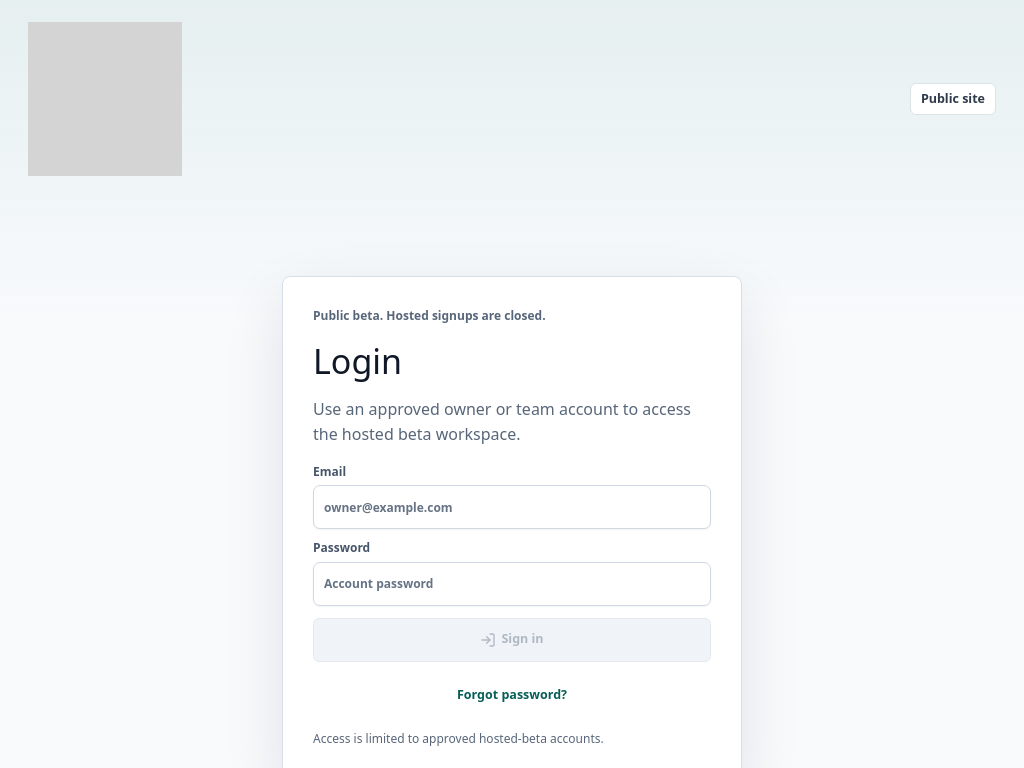
login stores session metadata without persisting bearer tokens and logout clears it
In the field labelled "Email": (512,507) [313,485,711,529], type "reader@example.com"
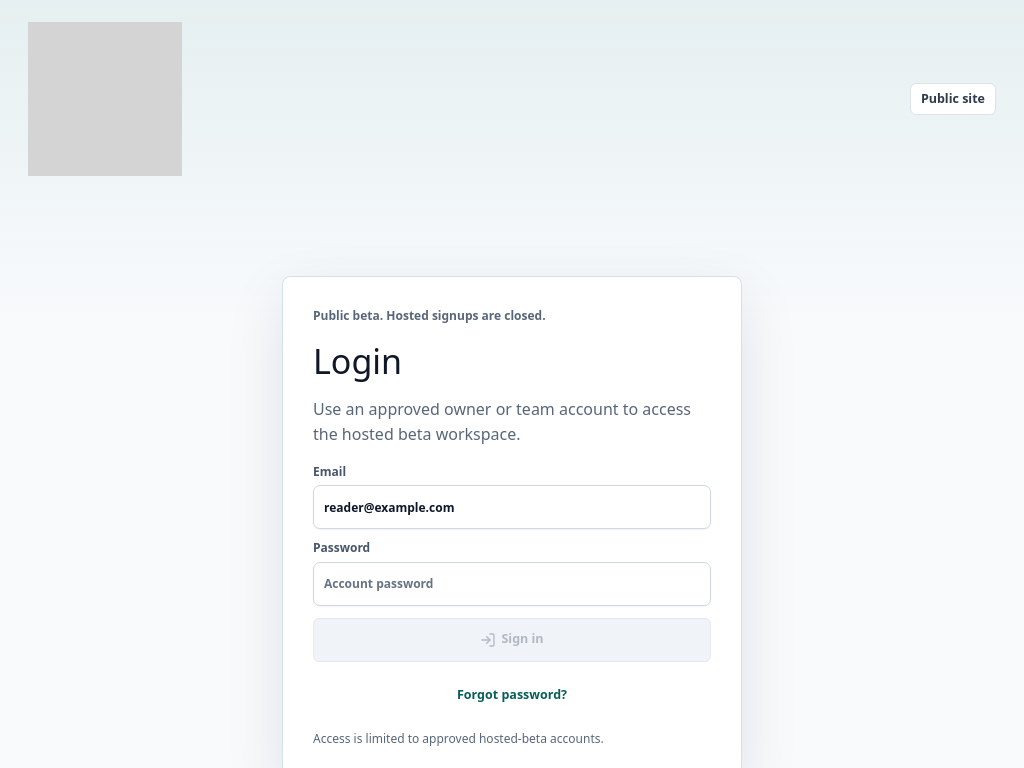
In the password field labelled "Password": (512,584) [313,562,711,606], type "correct horse battery staple"
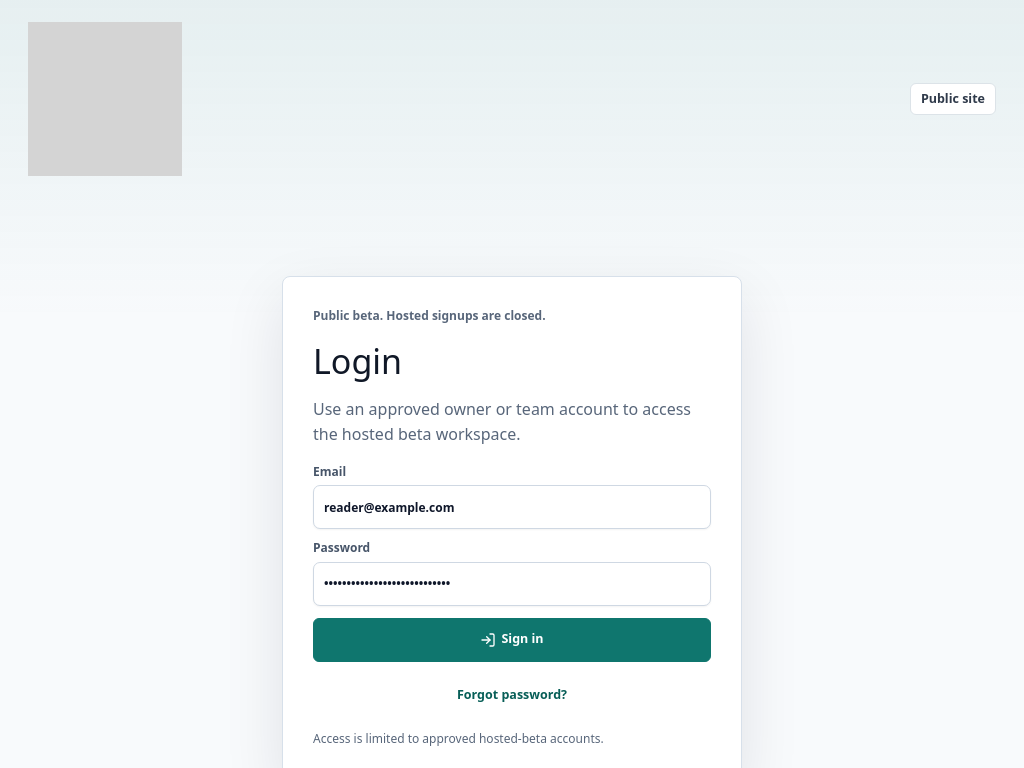
Click the button "Sign in": (512,640) [313,618,711,662]
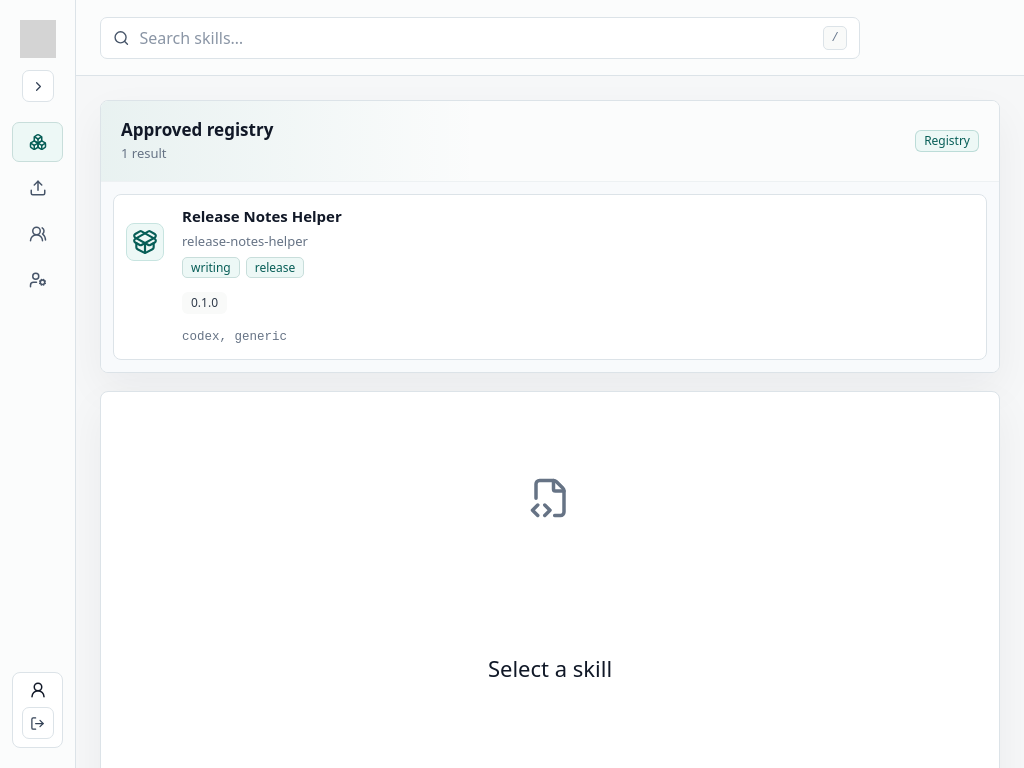
Now the text "Release Notes Helper" is shown, box [182,206,342,226]
Click the button named "Sign out": (38,723) [22,707,54,739]
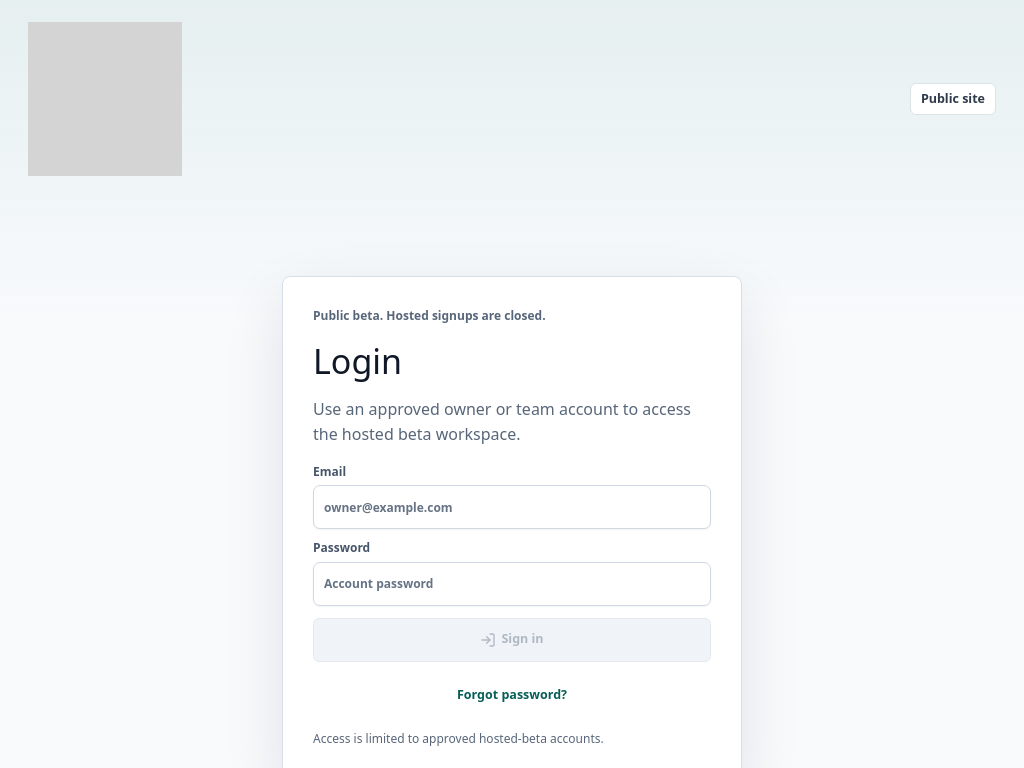
Now the button "Sign in" is shown, box [313,618,711,662]
